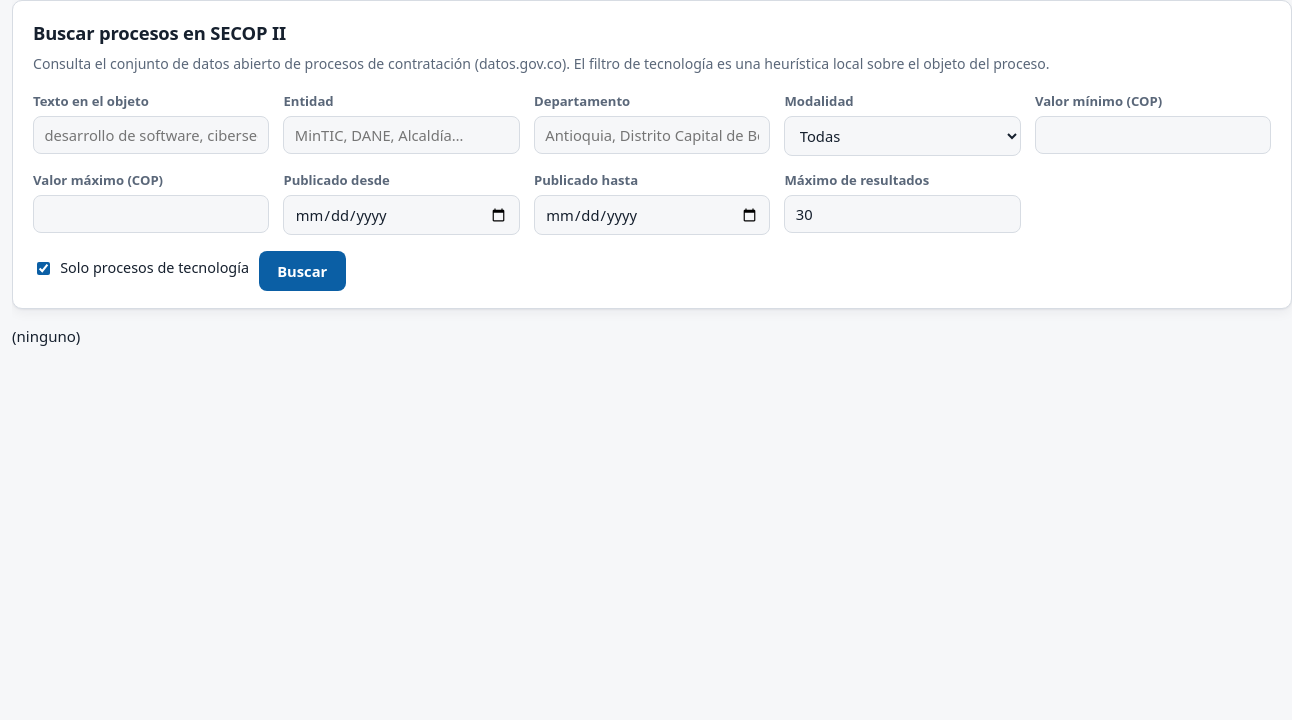
vista Buscar › muestra las advertencias que devuelve el backend
Click the button "Buscar" at (302, 271), box [259,251,346,291]
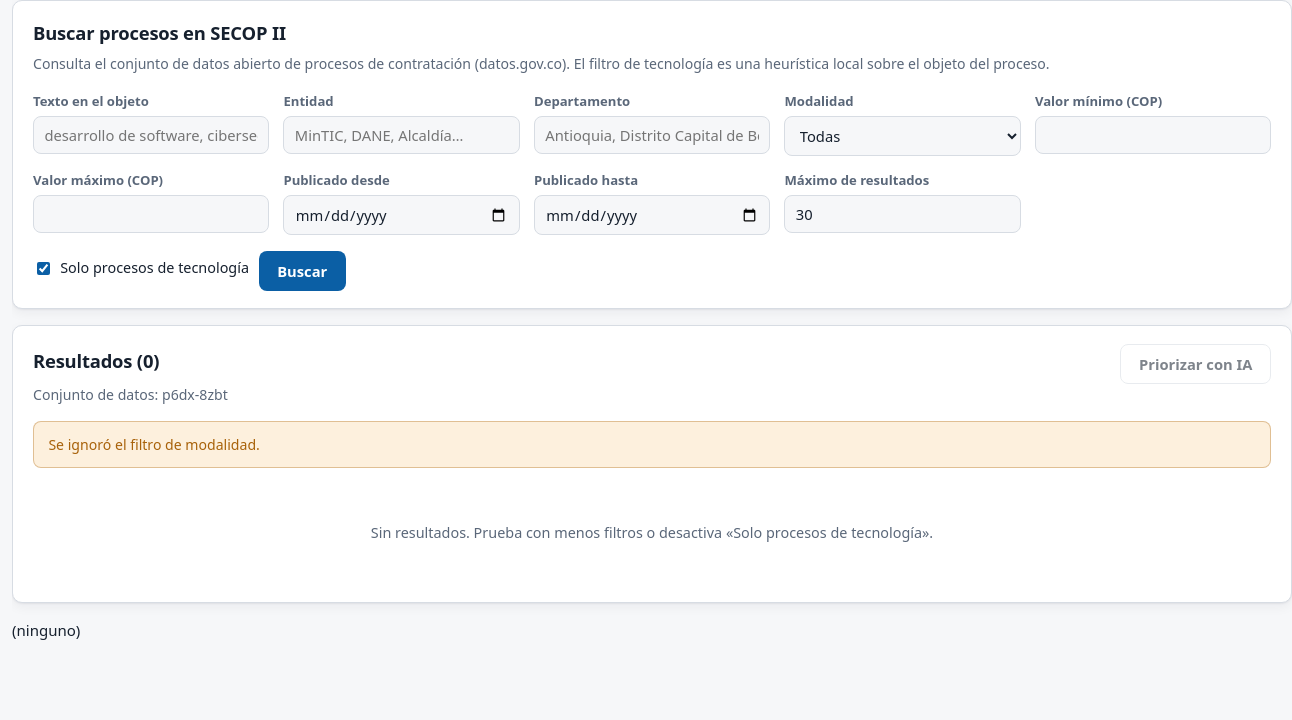
Now the text "Se ignoró el filtro de modalidad." is shown, box [33,421,1271,468]
